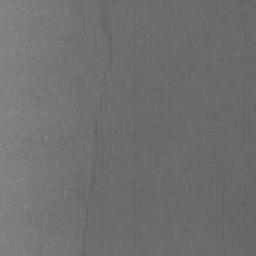Inclusion: (79, 0, 114, 256)
